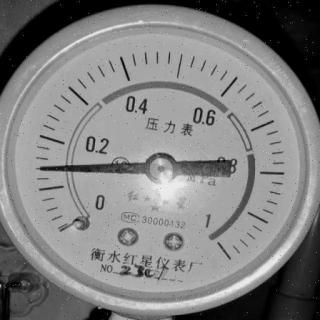gauge: (0, 1, 320, 319), (190, 211, 243, 270), (56, 199, 90, 249), (142, 152, 178, 186), (33, 162, 54, 176)
